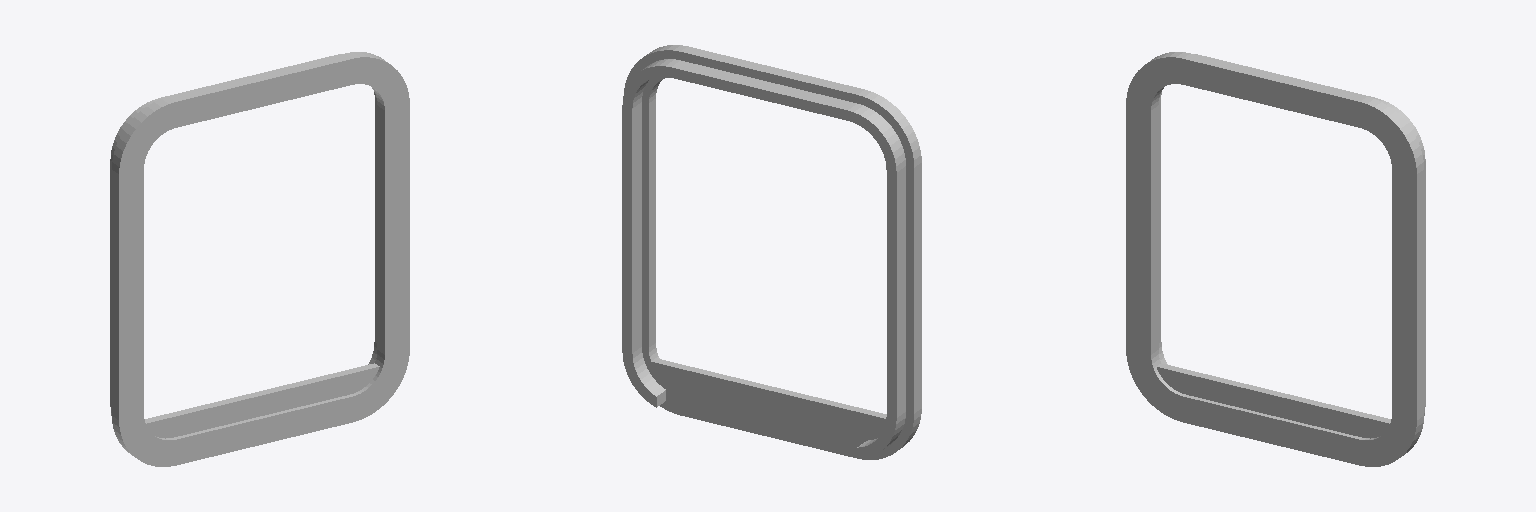
File: lcd frame.obj
3 views of the same model, side by side, from view 1: azimuth 30°, elevation 25°; view 2: azimuth 150°, elevation 25°; view 3: azimuth 330°, elevation 25° (orthographic).
Parts seen in each view (by area): view 1: Mesh1 frame1 Model; view 2: Mesh1 frame1 Model; view 3: Mesh1 frame1 Model.
Part boxes in pixels (bbox=[...]): Mesh1 frame1 Model: bbox=[110, 52, 409, 466]; Mesh1 frame1 Model: bbox=[622, 45, 921, 459]; Mesh1 frame1 Model: bbox=[1126, 52, 1425, 466].
Size of the model in its own units: 34.76 by 41.55 by 3.51.